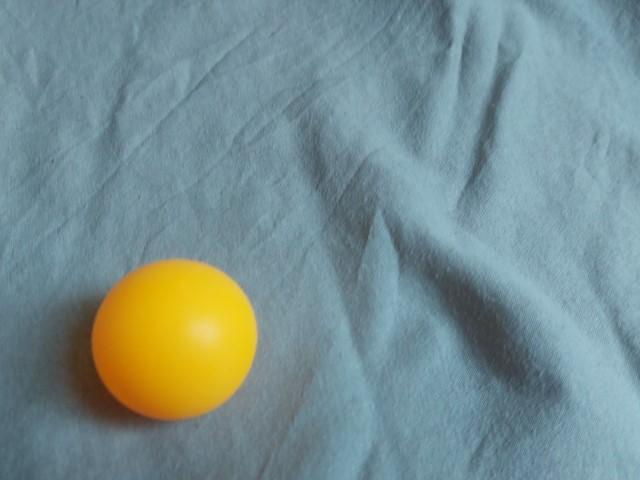oball: (81, 249, 265, 428)
